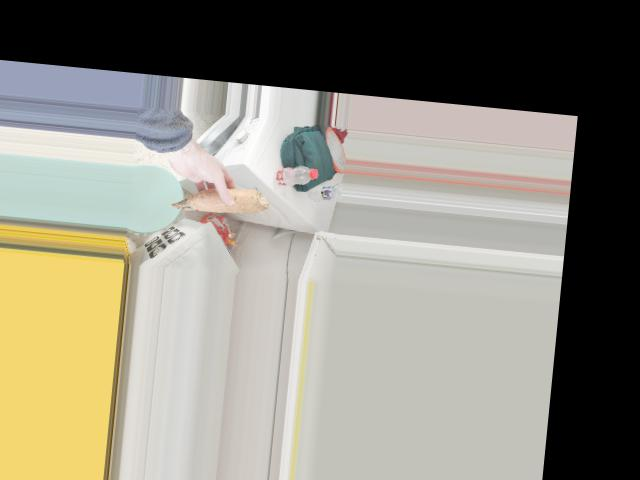sweet_potato: (175, 180, 269, 216)
